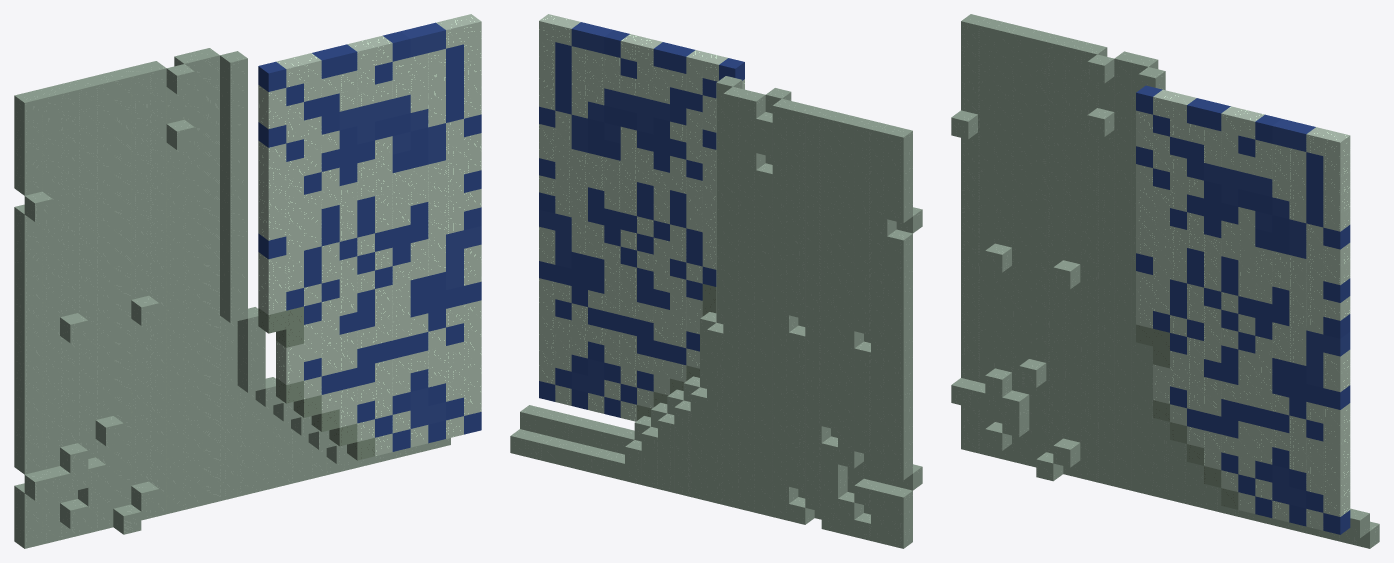
The picture shows the model from 3 angles, left to right: view 1: azimuth 30°, elevation 25°; view 2: azimuth 150°, elevation 25°; view 3: azimuth 330°, elevation 25°; orthographic projection. The views are drawn at different scales.
Bounding box in the file's own units: 2.4 × 2.4 × 0.4.
